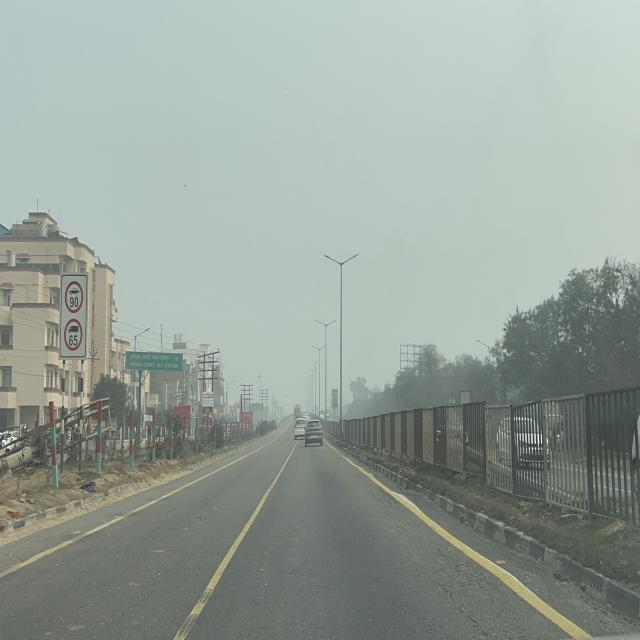GENERAL: (125, 351, 183, 371)
